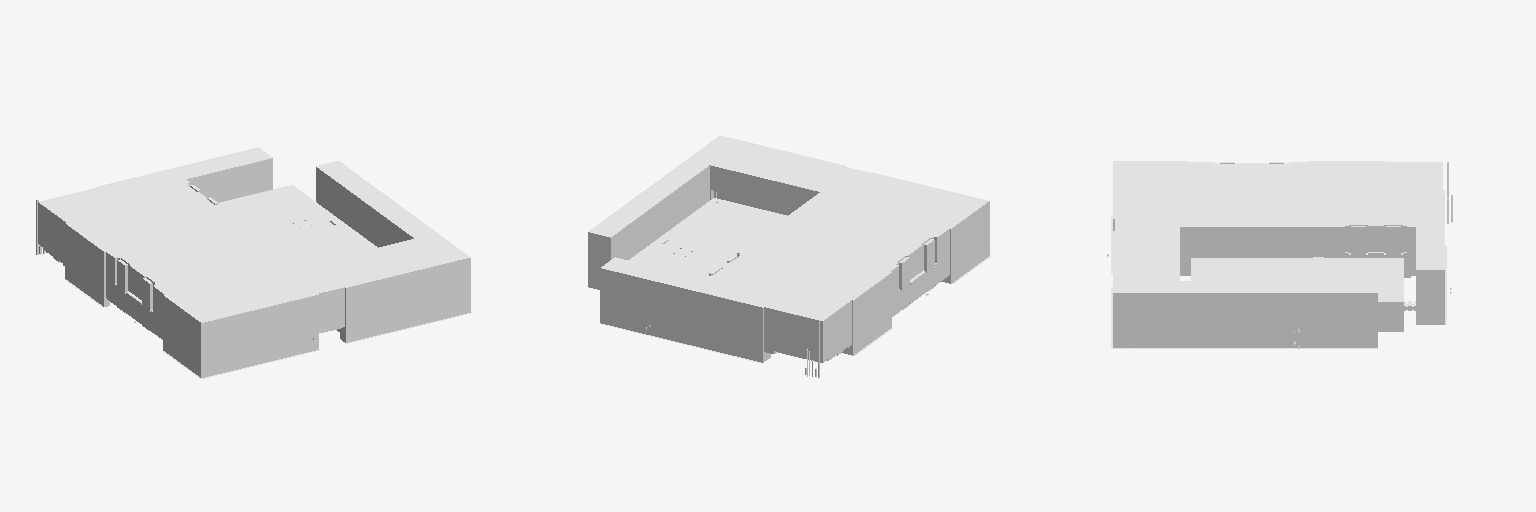
File: MAPM9_CelestialSanctuary.obj
The picture shows the model from 3 angles: view 1: azimuth 30°, elevation 25°; view 2: azimuth 150°, elevation 25°; view 3: azimuth 270°, elevation 25°; orthographic projection.
Visible parts, largest first — view 1: MAPM9; view 2: MAPM9; view 3: MAPM9.
Boxes of the visible parts, box(x1,y1,x2,y2) form: MAPM9: box(36, 147, 472, 378); MAPM9: box(587, 135, 990, 377); MAPM9: box(1107, 161, 1452, 348).
Bounding box in the file's own units: 10976 × 2050 × 11616.